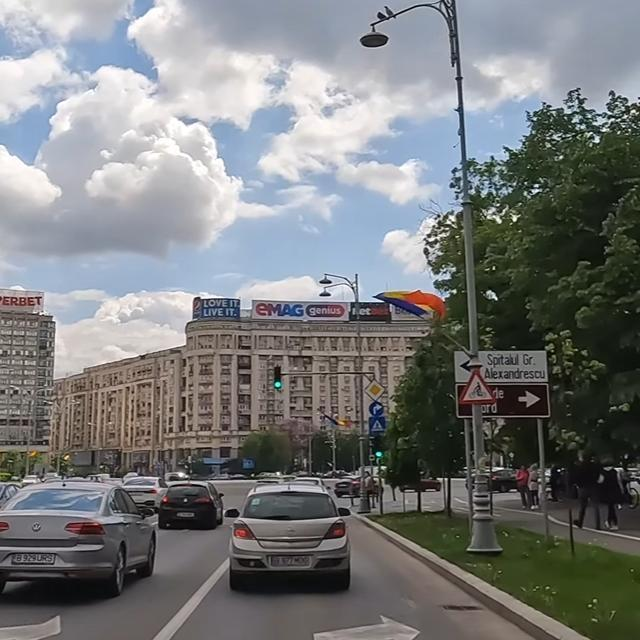info_crosswalk: (369, 417, 386, 434)
